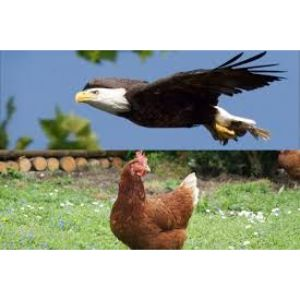eagle: (64, 50, 291, 148)
hen: (97, 150, 211, 251)
